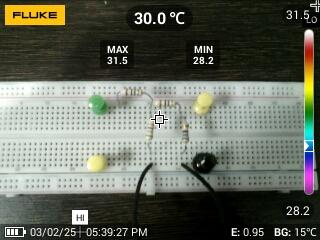resistor: (143, 117, 157, 144), (151, 97, 180, 110), (178, 120, 192, 146), (118, 86, 145, 99)
